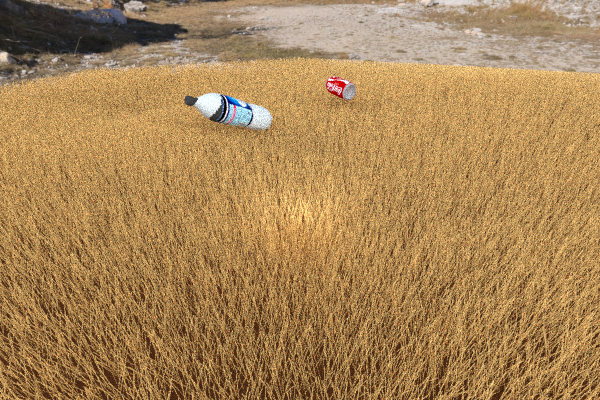bottle: (184, 93, 272, 131)
can: (325, 75, 356, 100)
